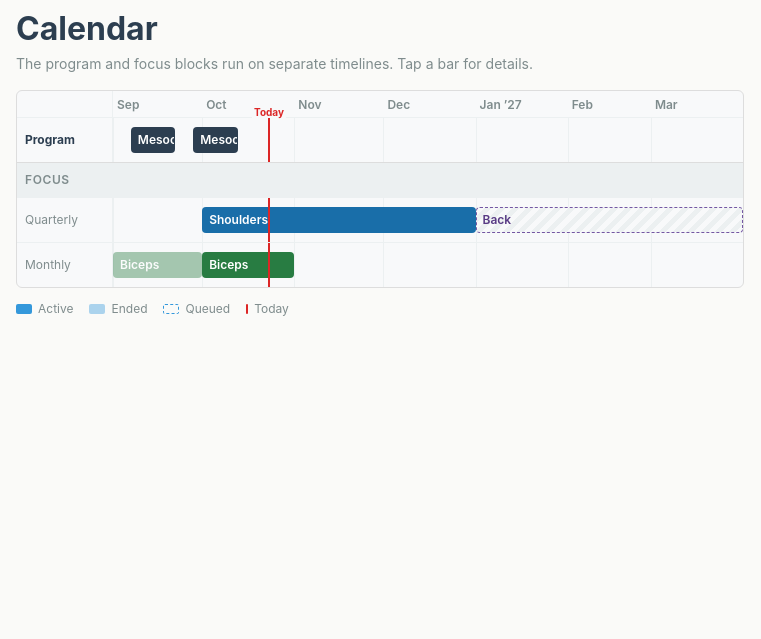
Scenario: FocusCalendar › shows an active focus block’s progress and settings, with an edit link
This screenshot has width=761, height=639.
Click the button with aria-label "Shoulders focus block" at (239, 220), box [202, 207, 476, 233]
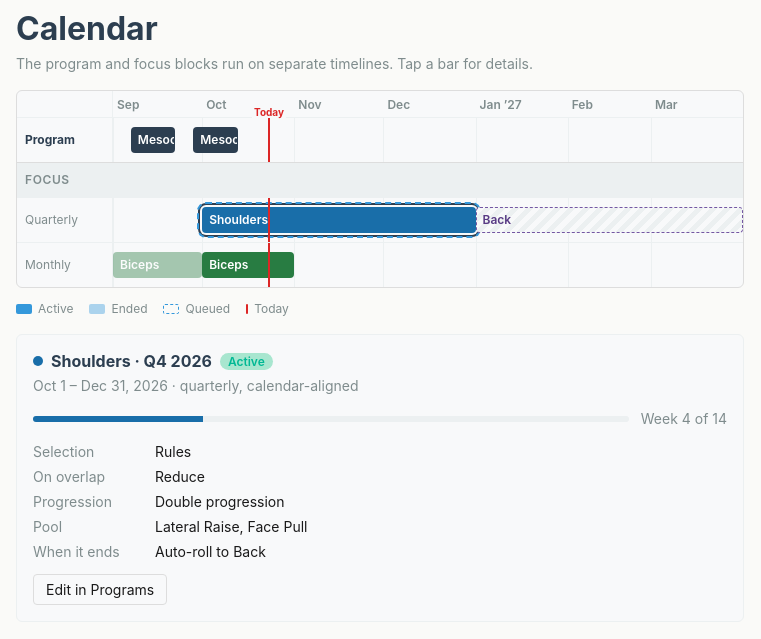
Result: the text "Week 4 of 14" is shown at [641, 408, 727, 429]
Result: the text "Lateral Raise, Face Pull" is shown at [155, 518, 308, 535]
Result: the text "Auto-roll to Back" is shown at [155, 543, 266, 560]
